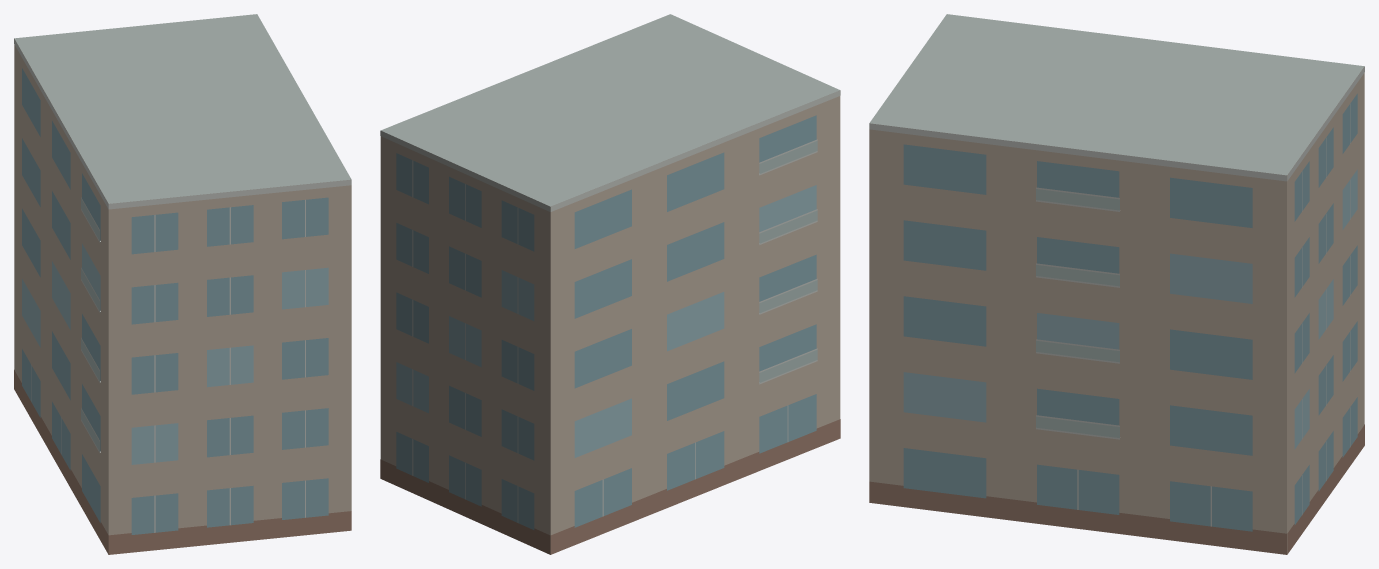
The model's file is survey-upis-32873550.glb.
3 renders of one model, left to right at view 1: azimuth 30°, elevation 25°; view 2: azimuth 150°, elevation 25°; view 3: azimuth 270°, elevation 25°, orthographic. The views are drawn at different scales.
Visible parts, largest first — view 1: survey-upis-32873550.tmp; view 2: survey-upis-32873550.tmp; view 3: survey-upis-32873550.tmp.
Part boxes in pixels (x1,y1,x2,y2): survey-upis-32873550.tmp: (14,14,351,554); survey-upis-32873550.tmp: (380,14,840,554); survey-upis-32873550.tmp: (869,14,1364,554).
Bounding box in the file's own units: 13.92 × 15.25 × 18.06.
